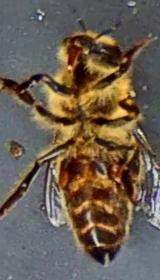varroa_mite: (102, 156, 136, 192), (44, 158, 80, 187)
